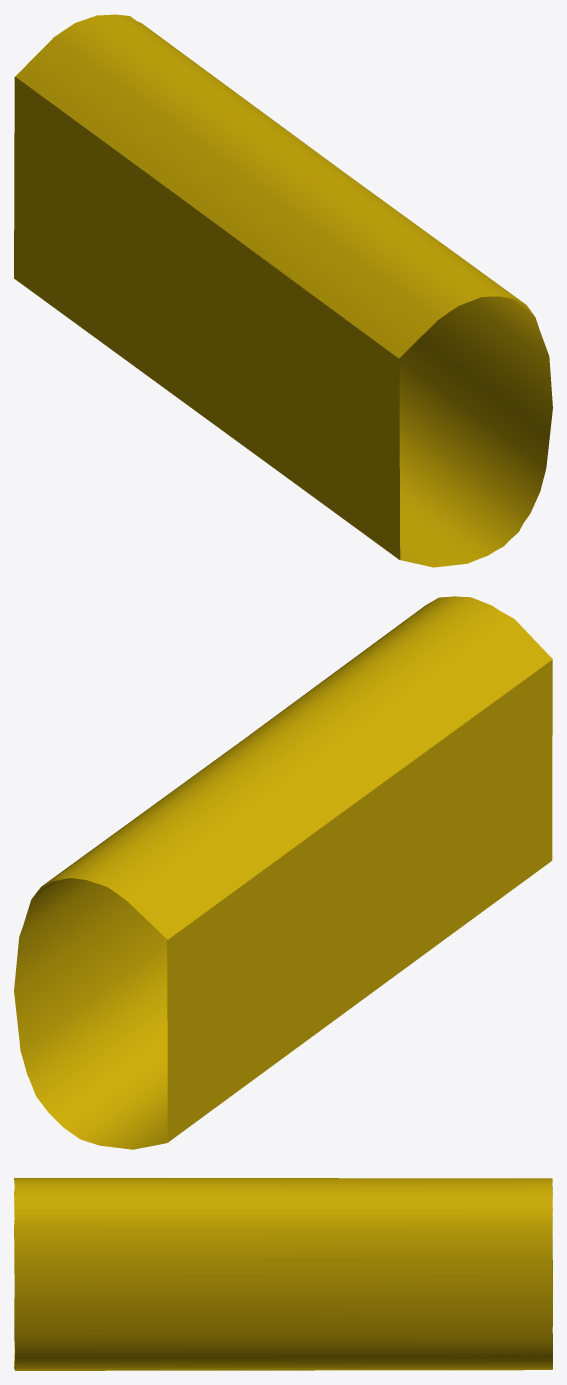
Rendered from original-17.obj.
3 renders of one model, top to bottom at view 1: azimuth 30°, elevation 25°; view 2: azimuth 150°, elevation 25°; view 3: azimuth 270°, elevation 25°, orthographic. The views are drawn at different scales.
Parts seen in each view (by area): view 1: #ID105; view 2: #ID105; view 3: #ID105.
Part boxes in pixels (x1,y1,x2,y2): #ID105: [14, 14, 552, 567]; #ID105: [14, 596, 552, 1149]; #ID105: [14, 1178, 552, 1370].
Size of the model in its own units: 0.0179 by 0.0292 by 0.0773.
